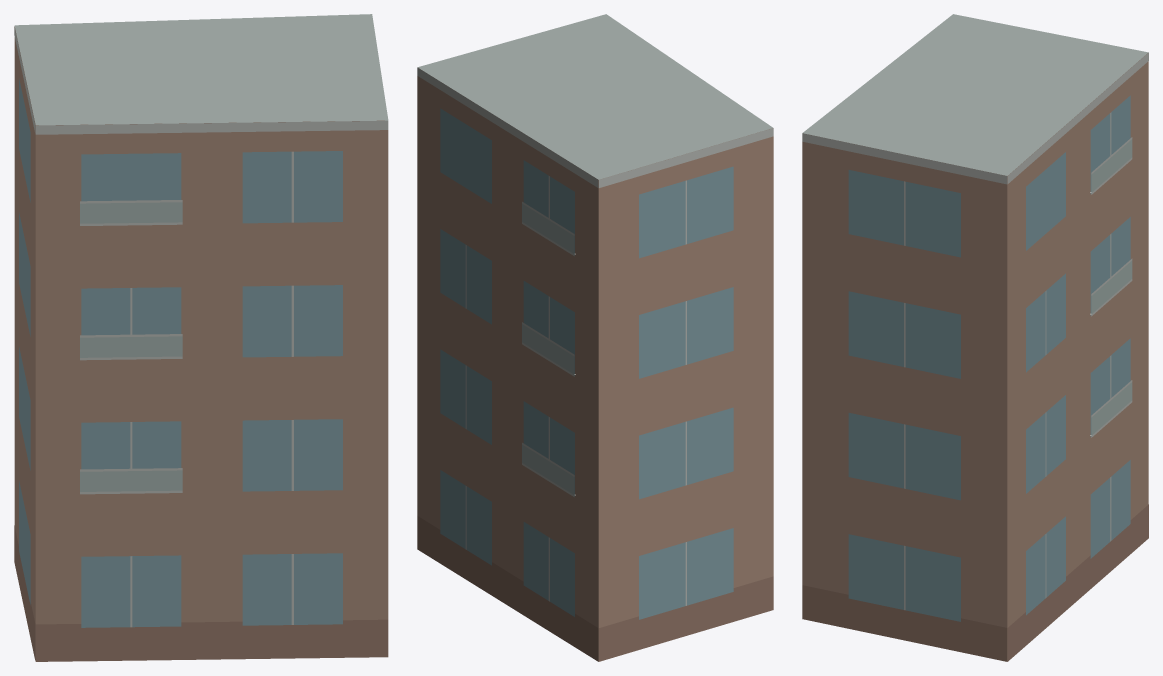
File: survey-upis-32974685.glb
3 renders of one model, left to right at view 1: azimuth 30°, elevation 25°; view 2: azimuth 150°, elevation 25°; view 3: azimuth 270°, elevation 25°, orthographic. The views are drawn at different scales.
Parts seen in each view (by area): view 1: survey-upis-32974685.tmp; view 2: survey-upis-32974685.tmp; view 3: survey-upis-32974685.tmp.
Boxes of the visible parts, x1,y1,x2,y2 form: survey-upis-32974685.tmp: [14, 14, 388, 661]; survey-upis-32974685.tmp: [417, 14, 773, 661]; survey-upis-32974685.tmp: [802, 14, 1148, 661].
Size of the model in its own units: 9.95 by 13.9 by 8.99.
